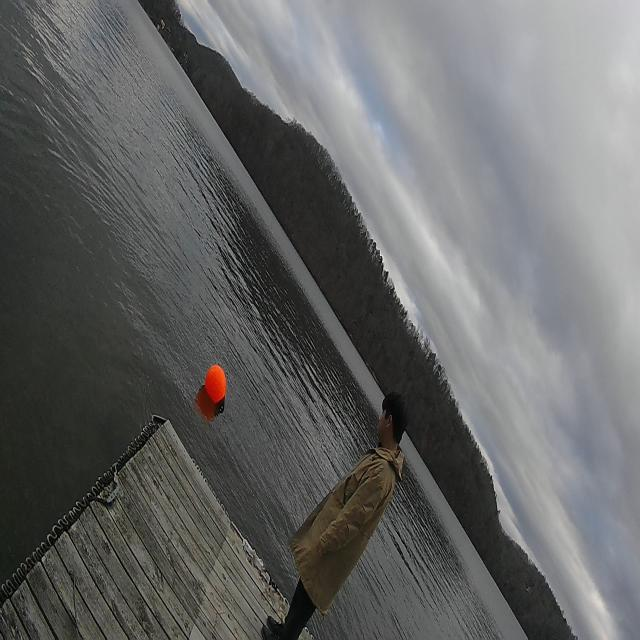Buoy: (202, 359, 230, 422)
